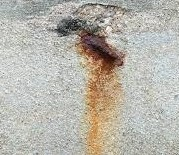Corrosion: (75, 32, 126, 155)
Exposed reinforcement: (89, 39, 121, 60)
Spalling: (56, 3, 131, 38)
